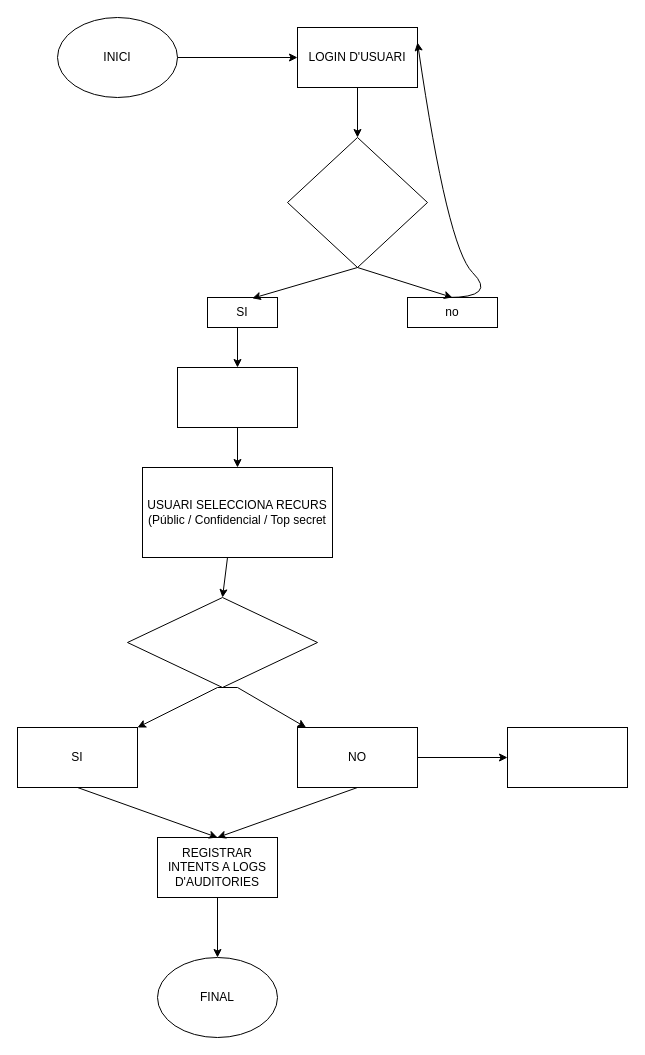
This 645x1055 diagram has some shape labels left out. The box of each missing label's shape, as (x1, y1, x2, y2) in pixels:
CÀRREGA DE DADES Carregar roles i permissos: (176, 366, 298, 428)
DENEGAR ACCÉS: (506, 726, 628, 788)
VALIDACIÓ Credencials vàlides?: (286, 136, 428, 268)
¿EL ROL TÉ PERMÍS PER AQUEST NIVELL?: (126, 596, 318, 688)
